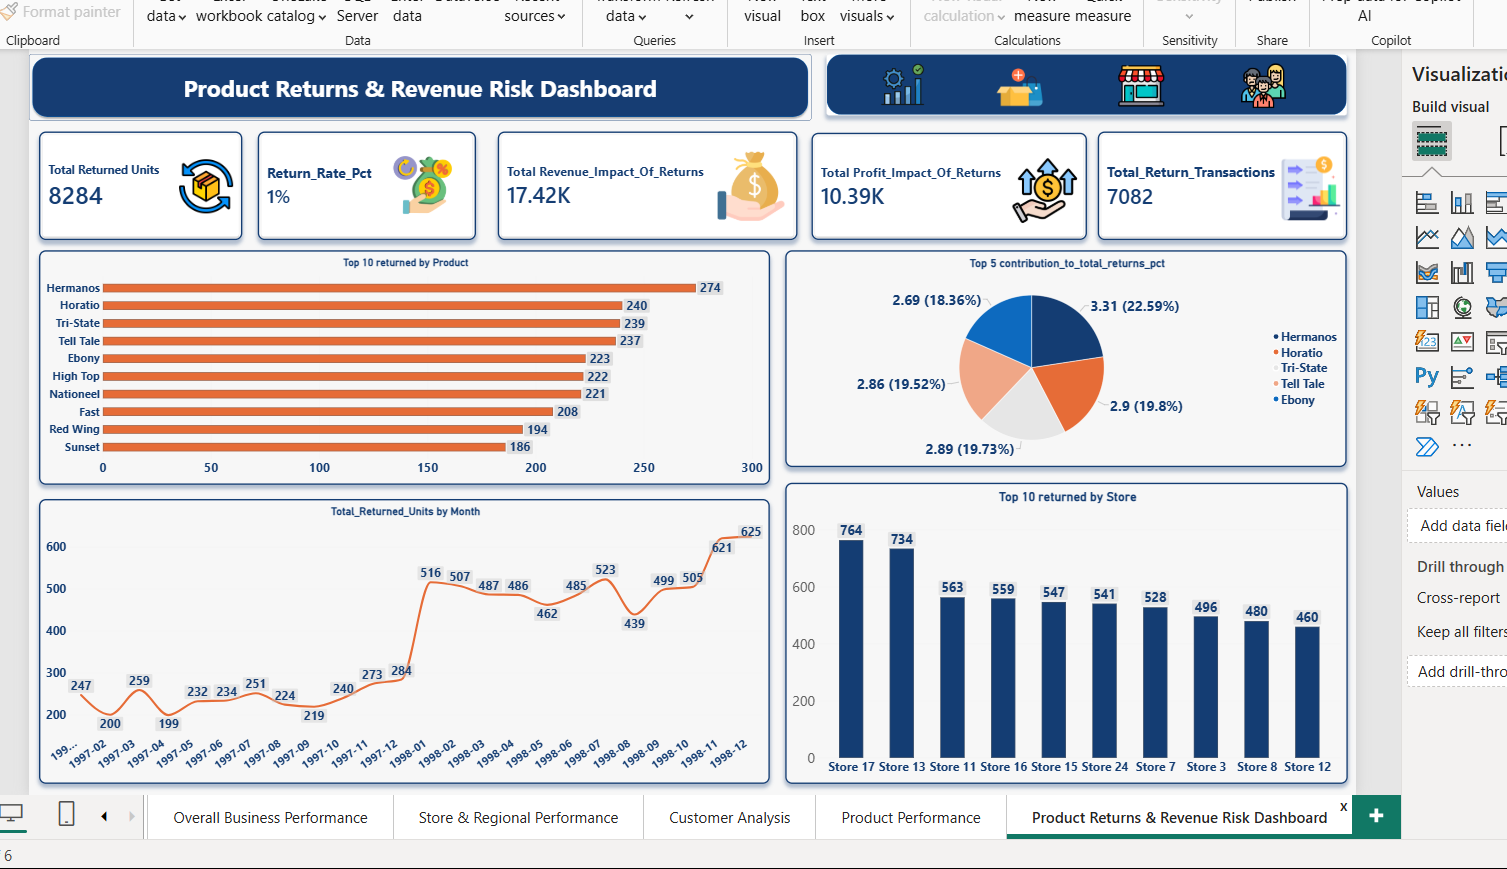

The dashboard page shown, as its layout file describes it:
{"tool":"powerbi","page":{"name":"Product Returns & Revenue Risk Dashboard","canvas":[3840,2160],"ordinal":5},"visuals":[{"type":"shape","box":[0,15.7,2266,192.4],"z":0},{"type":"group","id":"g1","title":"Group 1","box":[2309.2,15.7,1507.4,177.3],"z":0,"group":"g2"},{"type":"image","box":[2376.9,37.9,304.5,133],"z":1000,"group":"g2"},{"type":"cardVisual","fields":{"Data":["Sum(E_Query1.total_returned_units)"]},"box":[27.5,239.6,589.1,314.2],"z":1000,"group":"g3"},{"type":"cardVisual","fields":{"Data":["Sum(Query1.Return_Rate_Pct)"]},"box":[663.7,239.6,632.3,314.2],"z":1000,"group":"g6"},{"type":"cardVisual","fields":{"Data":["Sum(Query1.Profit_Impact_Of_Returns)"]},"box":[2266,243.5,797.2,310.2],"z":1000,"group":"g5"},{"type":"barChart","title":"Top 10 returned by Product","fields":{"Category":["E_Query5.product_brand"],"Y":["Sum(E_Query5.total_returned_units)"]},"box":[27.5,581.2,2116.8,679.4],"z":1000},{"type":"cardVisual","fields":{"Data":["Sum(Query1.Revenue_Impact_Of_Returns)"]},"box":[1358.8,239.6,867.9,314.2],"z":2000,"group":"g7"},{"type":"columnChart","title":"Top 10 returned by Store","fields":{"Category":["E_Query3.store_name"],"Y":["Sum(E_Query3.total_units_returned)"]},"box":[2189.7,1255.9,1628.7,872.3],"z":2000},{"type":"cardVisual","fields":{"Data":["Sum(Query1.Total_Return_Transactions)"]},"box":[3094.6,239.6,722.6,314.2],"z":3000,"group":"g4"},{"type":"pieChart","title":"Top 5 contribution_to_total_returns_pct","fields":{"Category":["E_Query5.product_brand"],"Y":["Sum(E_Query5.contribution_to_total_returns_pct)"]},"box":[2191.4,581.2,1625.9,628.4],"z":3000},{"type":"lineChart","title":"Total_Returned_Units by Month","fields":{"Category":["Query2.Return_Month"],"Y":["Sum(Query2.Total_Returned_Units)"]},"box":[27.9,1302.8,2115.6,824.7],"z":4000},{"type":"group","id":"g2","title":"Group 2","box":[2309.2,15.7,1508,176.7],"z":5000},{"type":"image","box":[2733.3,39.3,271,141.4],"z":6000},{"type":"image","box":[3094.6,39.3,251.3,133.5],"z":7000},{"type":"image","box":[3436.3,39.3,278.8,133.5],"z":8000},{"type":"group","id":"g3","title":"Group 3","box":[27.5,239.6,589.1,314.2],"z":9000},{"type":"group","id":"g4","title":"Group 6","box":[663.7,239.6,3153.5,314.2],"z":10000},{"type":"image","box":[2843.3,306.3,192.4,212.1],"z":10000,"group":"g5"},{"type":"group","id":"g5","title":"Group 7","box":[2266,243.5,797.2,310.2],"z":11000},{"type":"image","box":[1036.8,286.7,192.4,216],"z":13000,"group":"g6"},{"type":"image","box":[432,290.7,157.1,216],"z":14000,"group":"g3"},{"type":"image","box":[1991.1,290.7,200.3,216],"z":14000,"group":"g7"},{"type":"image","box":[3620.9,290.7,184.6,227.8],"z":16000,"group":"g4"},{"type":"group","id":"g6","title":"Group 4","box":[663.7,239.6,632.3,314.2],"z":17001,"group":"g7"},{"type":"group","id":"g7","title":"Group 5","box":[663.7,239.6,1563,314.2],"z":17002,"group":"g4"},{"type":"shape","box":[2309.2,15.7,1507.4,177.3],"z":19000,"group":"g1"}]}

Visuals, with their boxes on the page's 3840x2160 design canvas (x1, y1, x2, y2). These are canvas units, not pixel positions in the 1507x869 screenshot, which may show the page scaled, cropped or inside an application window:
shape: [0, 16, 2266, 208]
"Group 1" group: [2309, 16, 3817, 193]
image: [2377, 38, 2681, 171]
cardVisual - Sum(E_Query1.total_returned_units): [28, 240, 617, 554]
cardVisual - Sum(Query1.Return_Rate_Pct): [664, 240, 1296, 554]
cardVisual - Sum(Query1.Profit_Impact_Of_Returns): [2266, 244, 3063, 554]
"Top 10 returned by Product" barChart: [28, 581, 2144, 1261]
cardVisual - Sum(Query1.Revenue_Impact_Of_Returns): [1359, 240, 2227, 554]
"Top 10 returned by Store" columnChart: [2190, 1256, 3818, 2128]
cardVisual - Sum(Query1.Total_Return_Transactions): [3095, 240, 3817, 554]
"Top 5 contribution_to_total_returns_pct" pieChart: [2191, 581, 3817, 1210]
"Total_Returned_Units by Month" lineChart: [28, 1303, 2144, 2128]
"Group 2" group: [2309, 16, 3817, 192]
image: [2733, 39, 3004, 181]
image: [3095, 39, 3346, 173]
image: [3436, 39, 3715, 173]
"Group 3" group: [28, 240, 617, 554]
"Group 6" group: [664, 240, 3817, 554]
image: [2843, 306, 3036, 518]
"Group 7" group: [2266, 244, 3063, 554]
image: [1037, 287, 1229, 503]
image: [432, 291, 589, 507]
image: [1991, 291, 2191, 507]
image: [3621, 291, 3806, 518]
"Group 4" group: [664, 240, 1296, 554]
"Group 5" group: [664, 240, 2227, 554]
shape: [2309, 16, 3817, 193]
